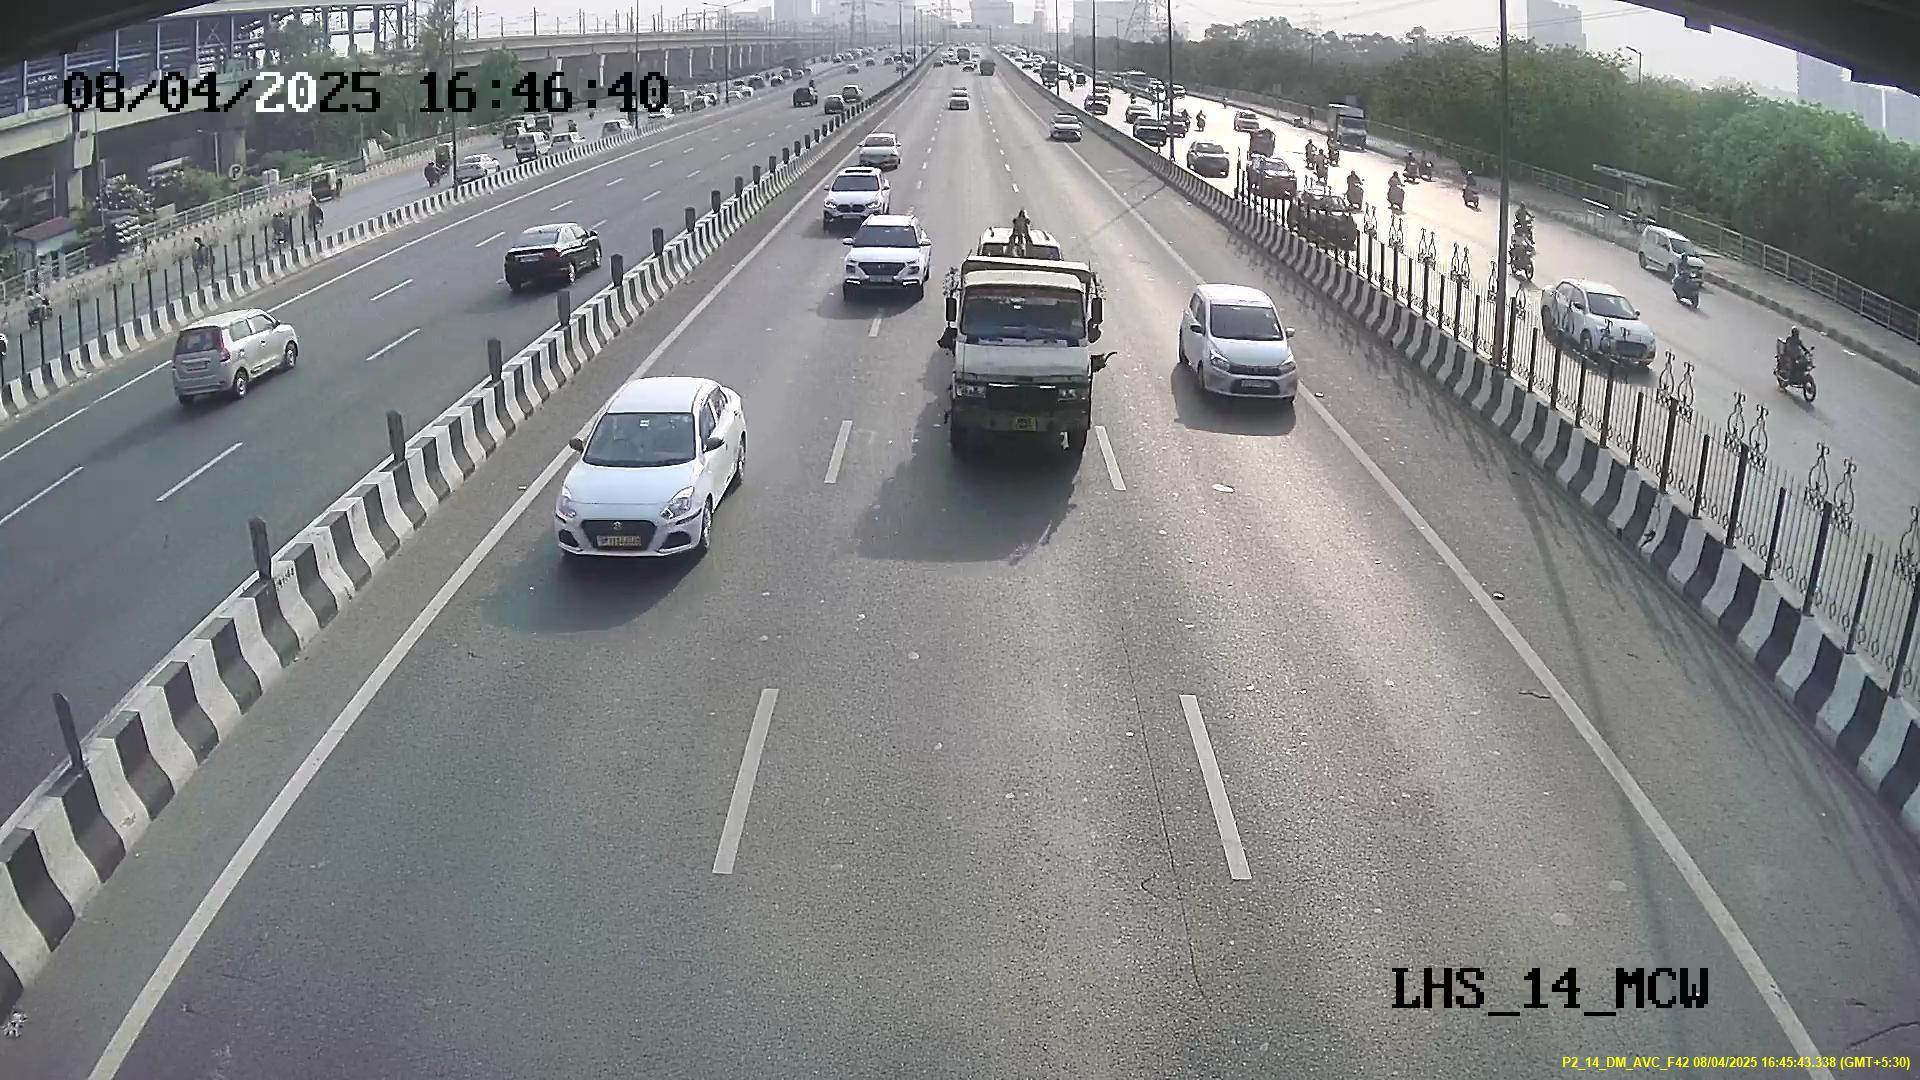car: (551, 396, 732, 563), (1180, 295, 1302, 407), (843, 220, 928, 305)
lcv: (947, 269, 1098, 459)
